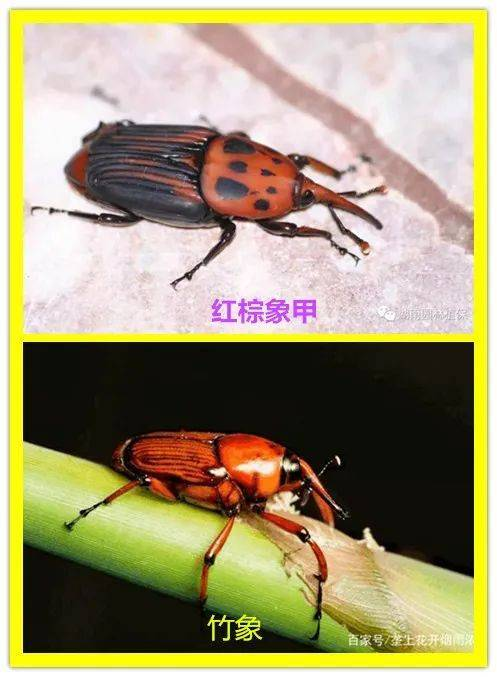Curculionidae: (29, 115, 389, 292), (66, 429, 355, 641)
